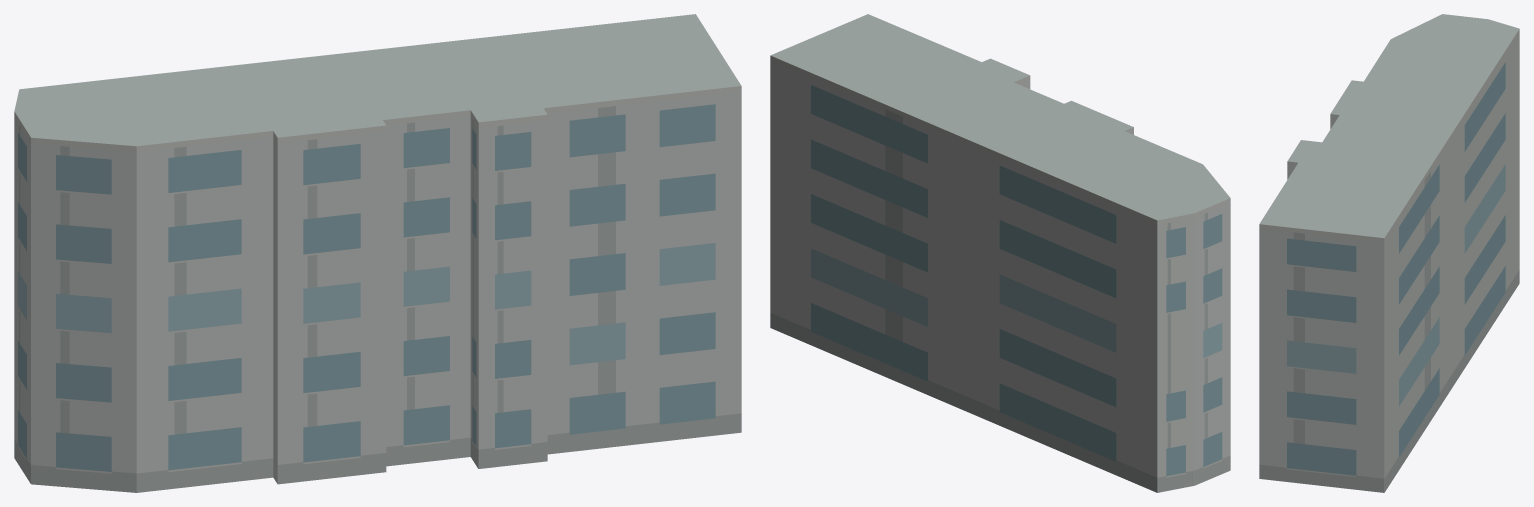
Rendered from survey-upis-32790541.glb.
3 renders of one model, left to right at view 1: azimuth 30°, elevation 25°; view 2: azimuth 150°, elevation 25°; view 3: azimuth 270°, elevation 25°, orthographic. The views are drawn at different scales.
Visible parts, largest first — view 1: survey-upis-32790541.tmp; view 2: survey-upis-32790541.tmp; view 3: survey-upis-32790541.tmp.
Boxes of the visible parts, x1,y1,x2,y2 form: survey-upis-32790541.tmp: (14,14,741,492); survey-upis-32790541.tmp: (770,14,1230,492); survey-upis-32790541.tmp: (1259,14,1519,492).
Bounding box in the file's own units: 27 × 14.3 × 13.26.
